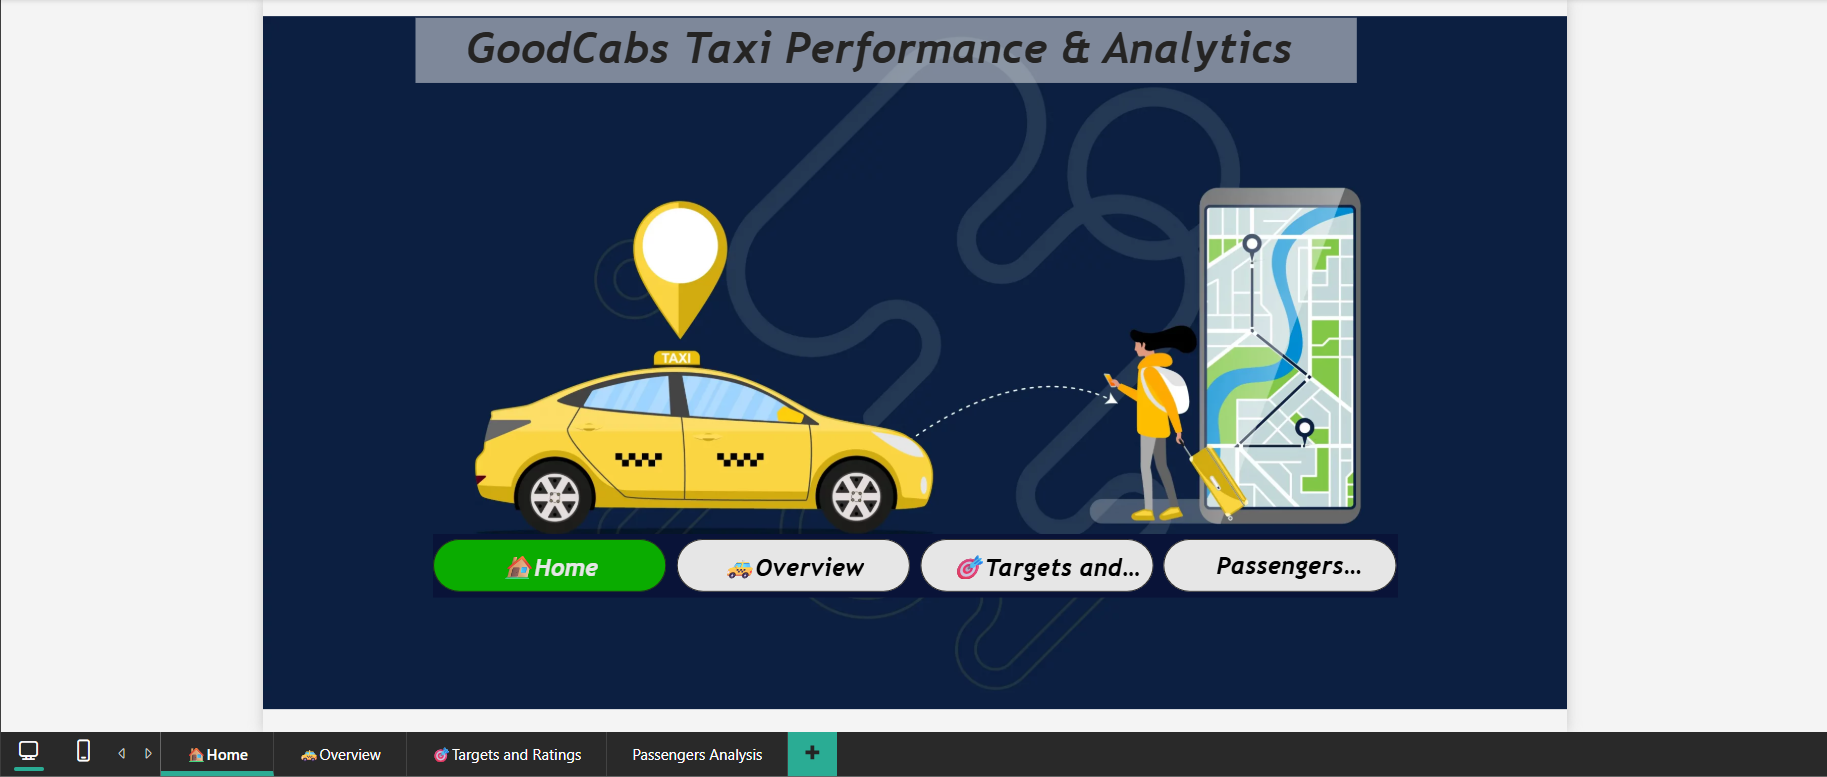

The dashboard page shown, as its layout file describes it:
{"tool":"powerbi","page":{"name":"🏠Home","canvas":[1280,720],"ordinal":0},"visuals":[{"type":"pageNavigator","box":[166.9,525.2,947.2,62.6],"z":0},{"type":"textbox","box":[149.7,18.4,923.9,63.8],"z":1000}]}

Visuals, with their boxes on the page's 1280x720 design canvas (x1, y1, x2, y2). These are canvas units, not pixel positions in the 1827x777 screenshot, which may show the page scaled, cropped or inside an application window:
pageNavigator: x1=167, y1=525, x2=1114, y2=588
textbox: x1=150, y1=18, x2=1074, y2=82
